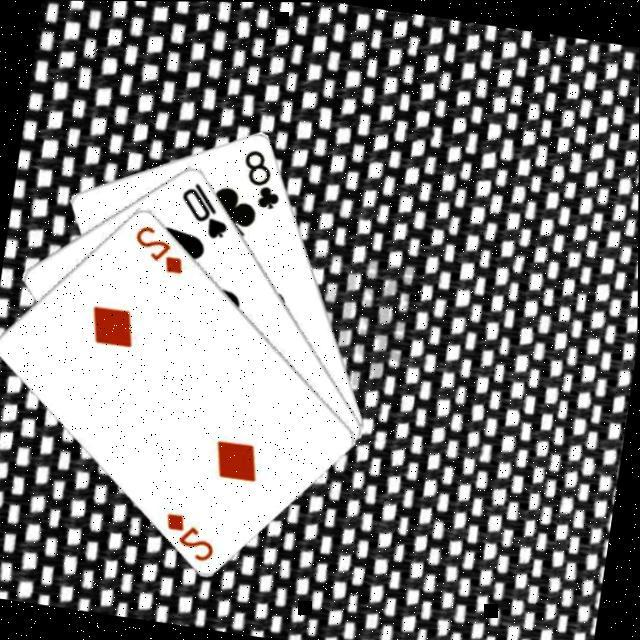10S: (173, 174, 237, 240)
2D: (127, 217, 191, 275), (157, 505, 221, 563)
8C: (235, 142, 288, 210)
